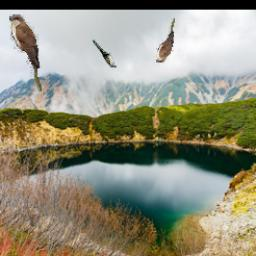Cuckoo: (8, 14, 42, 91), (156, 16, 176, 63), (92, 38, 117, 67)
